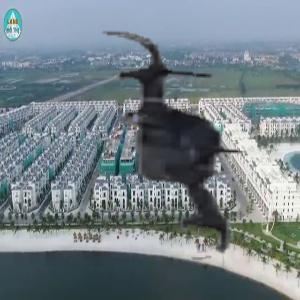drone: (42, 19, 293, 270)
